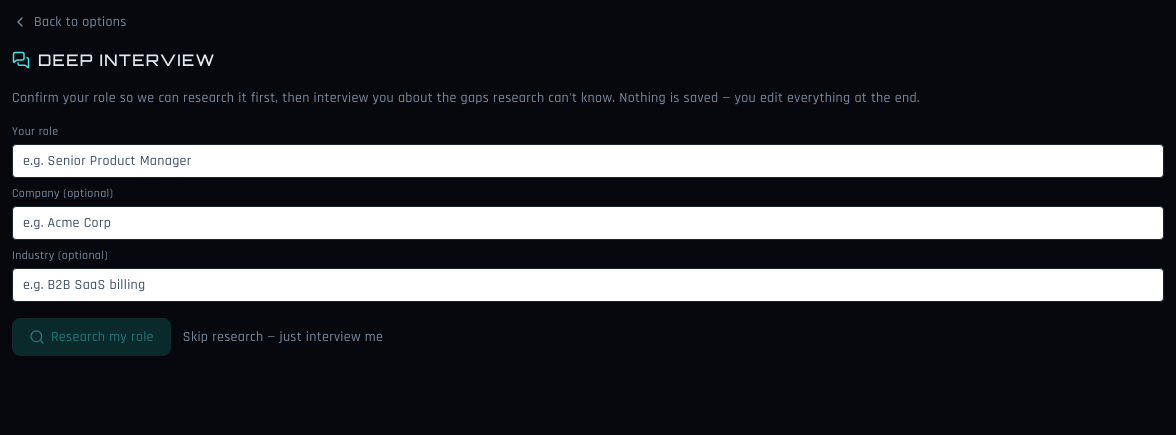
Test: DeepInterviewPanel — cloud role research (step 2) › degrades to interview-only when research is unsupported (honest notice, no roleContext)
Type "PM" into the field labelled "Your role" at (588,161), box [12,144,1164,178]
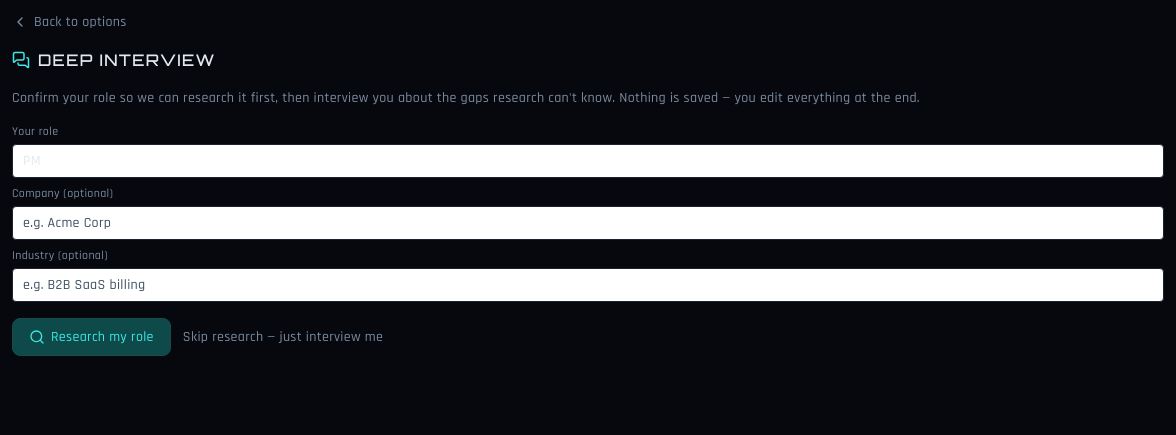
Click the button "Research my role" at (91,337), box [12,318,171,356]
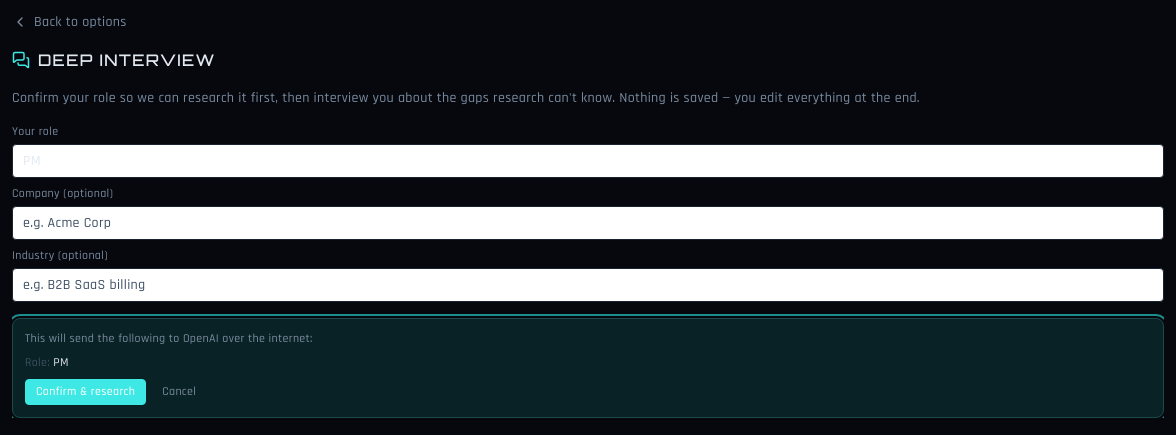
Click the button "Confirm & research" at (86,392), box [25,379,146,405]
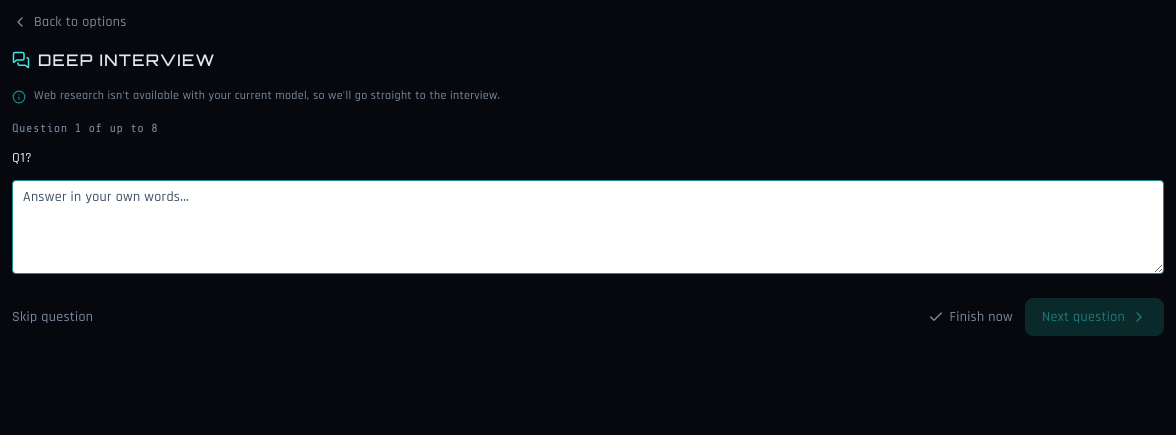
Expected: the text "Q1?" is shown, [12,149,32,167]
Expected: the text "Web research isn't available" is shown, [34,88,500,103]
